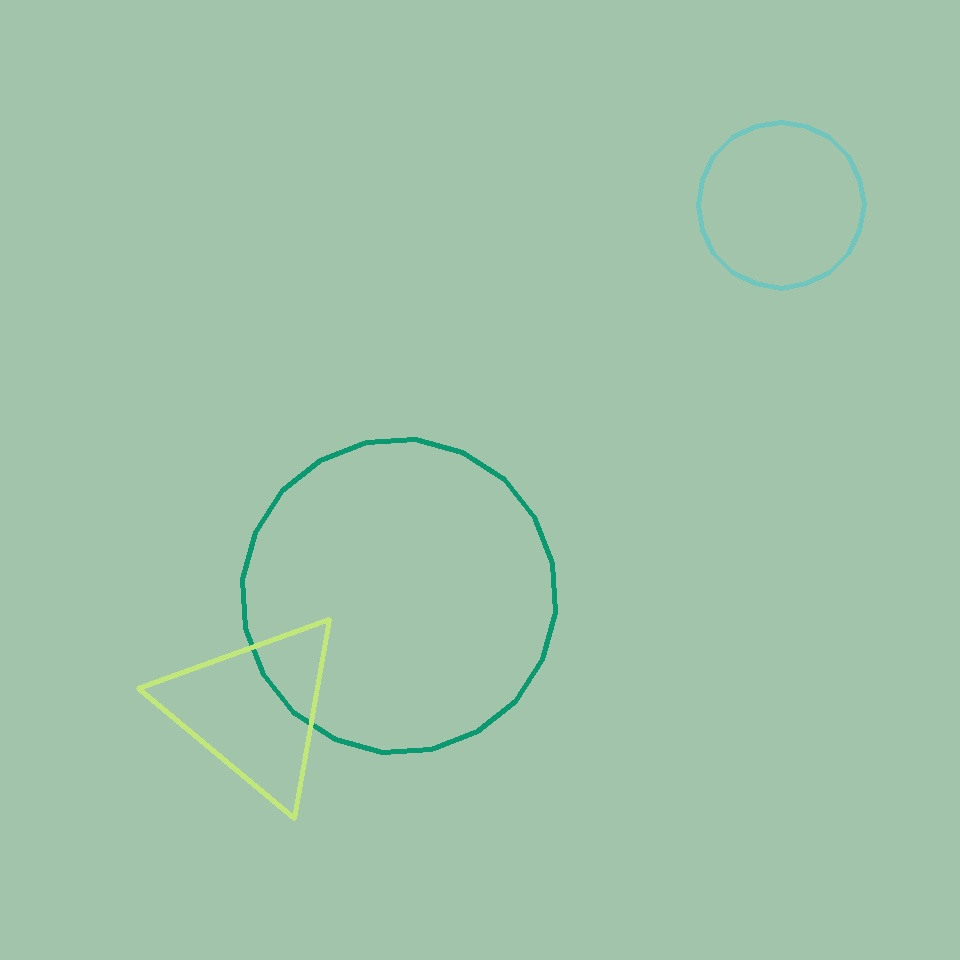circle: (158, 610, 350, 808)
triangle: (243, 440, 556, 753), (698, 122, 864, 288)
